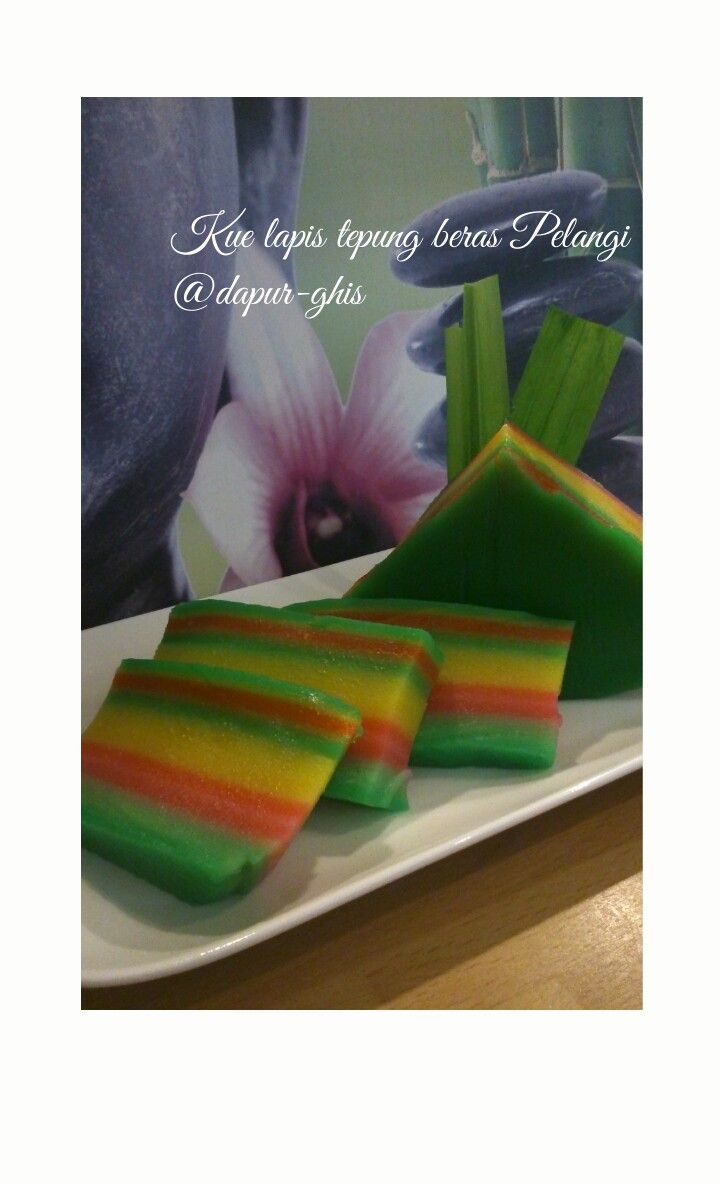kue_lapis_pelangi: (82, 658, 367, 908)
